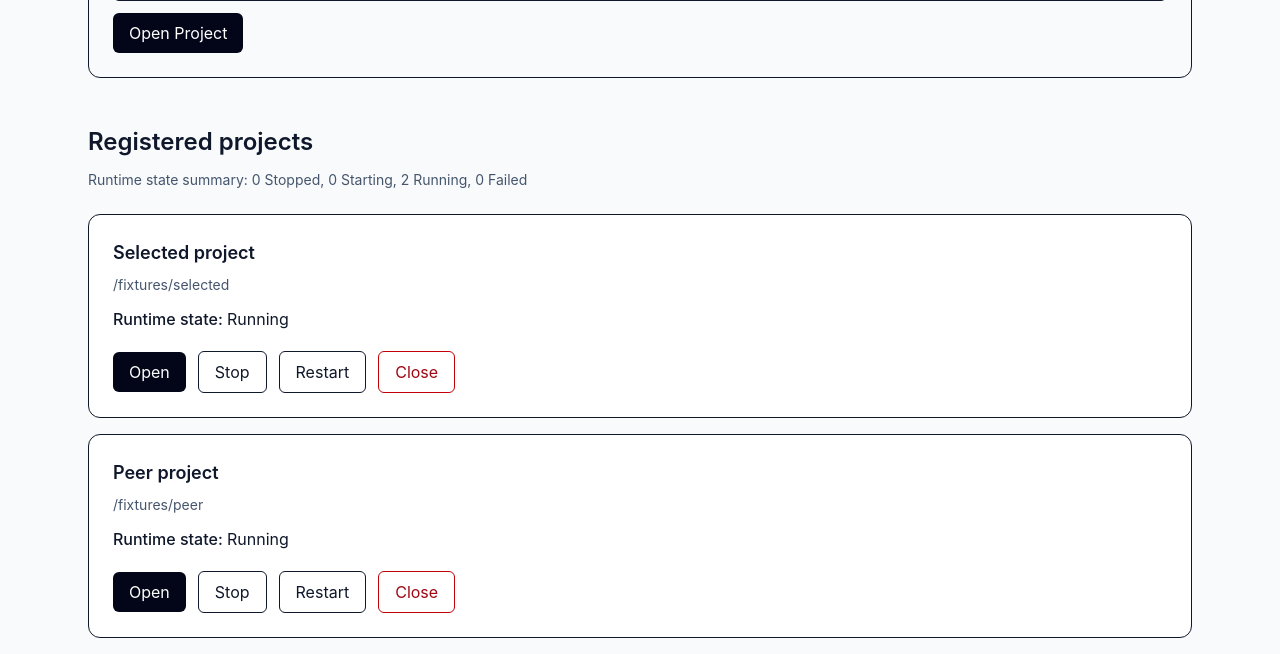
Project Home selected Stop interaction › renders only the client-owned invalid_project_id rejection and does not refresh
(page scrolled)
Expected: the text labelled "Runtime state summary" is shown, x1=88 y1=171 x2=527 y2=188
What coordinates should you click on to do the following:
click the button with aria-label "Stop Selected project workbench"
I would click on:
 (232, 372)
Its box is x1=198 y1=351 x2=266 y2=393.
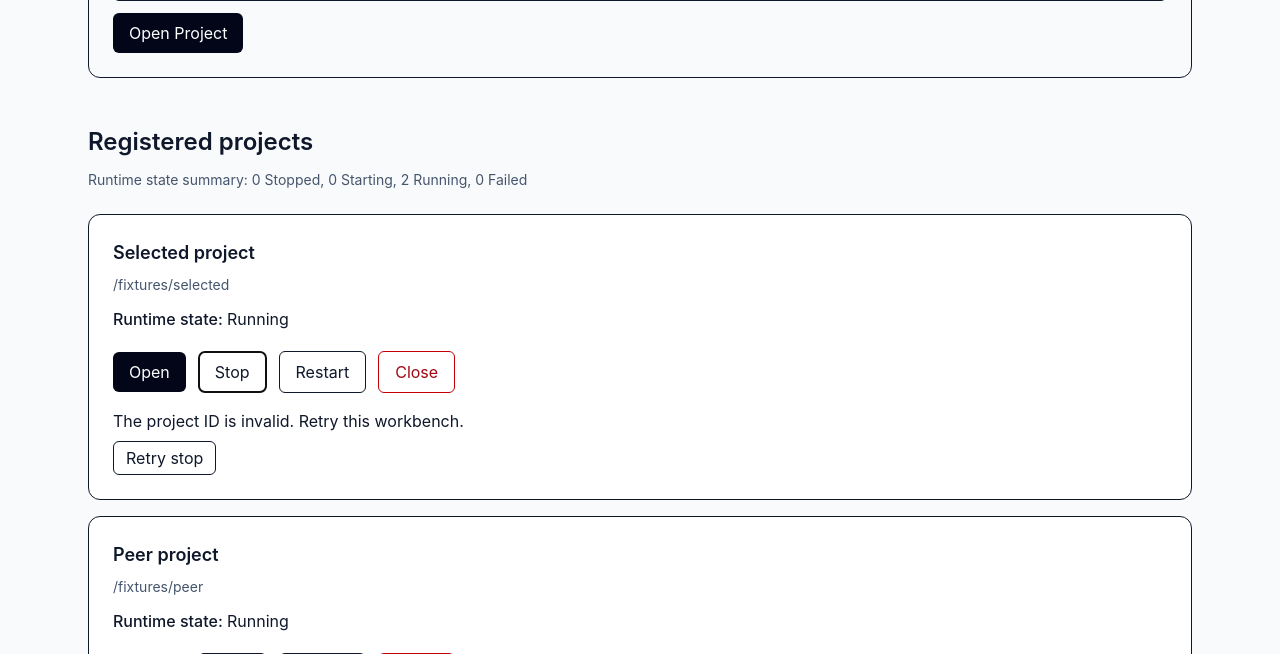
Expected: the list item named "Stop Selected project workbench" shows "Selected project", x1=113 y1=242 x2=255 y2=263
Now the message shows "The project ID is invalid. Retry this workbench.", box x1=113 y1=411 x2=464 y2=431
Now the button "Retry stop" is shown, box x1=113 y1=441 x2=216 y2=475
